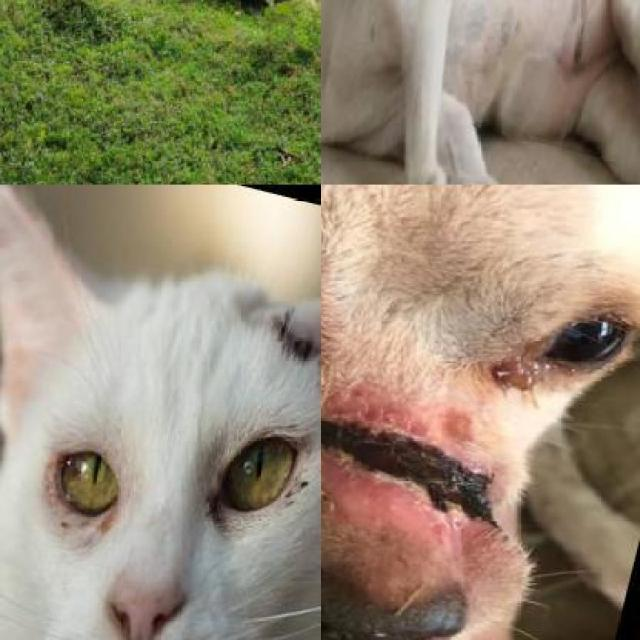cat: (0, 184, 320, 640)
dog: (320, 184, 640, 640), (320, 0, 640, 185)
injured: (320, 316, 560, 558), (235, 288, 320, 482)
